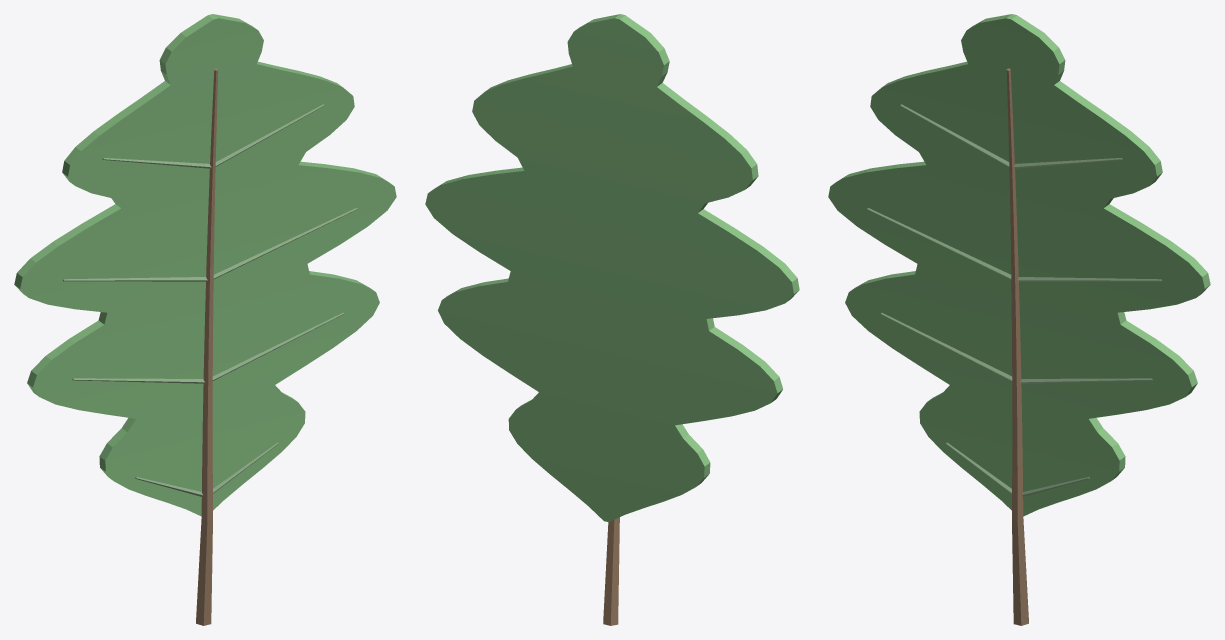
The model's file is quercus-convexa-beaverhead-133496.b92c0668037c.glb.
The picture shows the model from 3 angles, left to right: view 1: azimuth 30°, elevation 25°; view 2: azimuth 150°, elevation 25°; view 3: azimuth 330°, elevation 25°; orthographic projection. The views are drawn at different scales.
Visible parts, largest first — view 1: quercus-convexa-beaverhead-133496; view 2: quercus-convexa-beaverhead-133496; view 3: quercus-convexa-beaverhead-133496.
Boxes of the visible parts, x1=… form: quercus-convexa-beaverhead-133496: x1=14, y1=14, x2=396, y2=625; quercus-convexa-beaverhead-133496: x1=425, y1=14, x2=799, y2=625; quercus-convexa-beaverhead-133496: x1=828, y1=14, x2=1210, y2=625.
Size of the model in its own units: 0.6434 by 1 by 0.0532.
